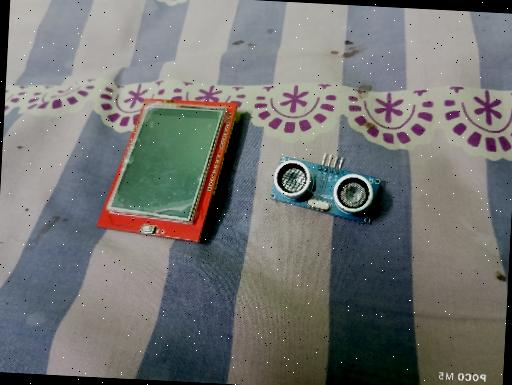Display: (95, 93, 238, 245)
sensor: (268, 150, 383, 228)
